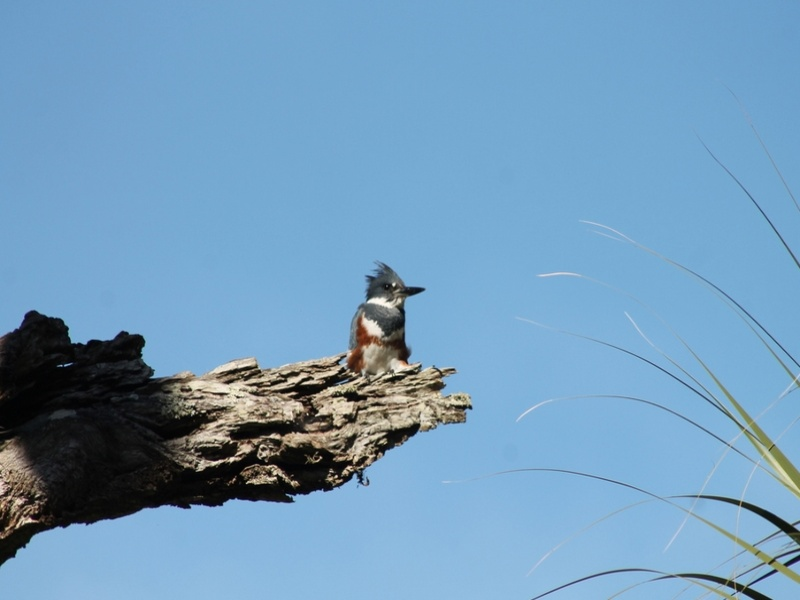kingfisher: (348, 256, 426, 381)
